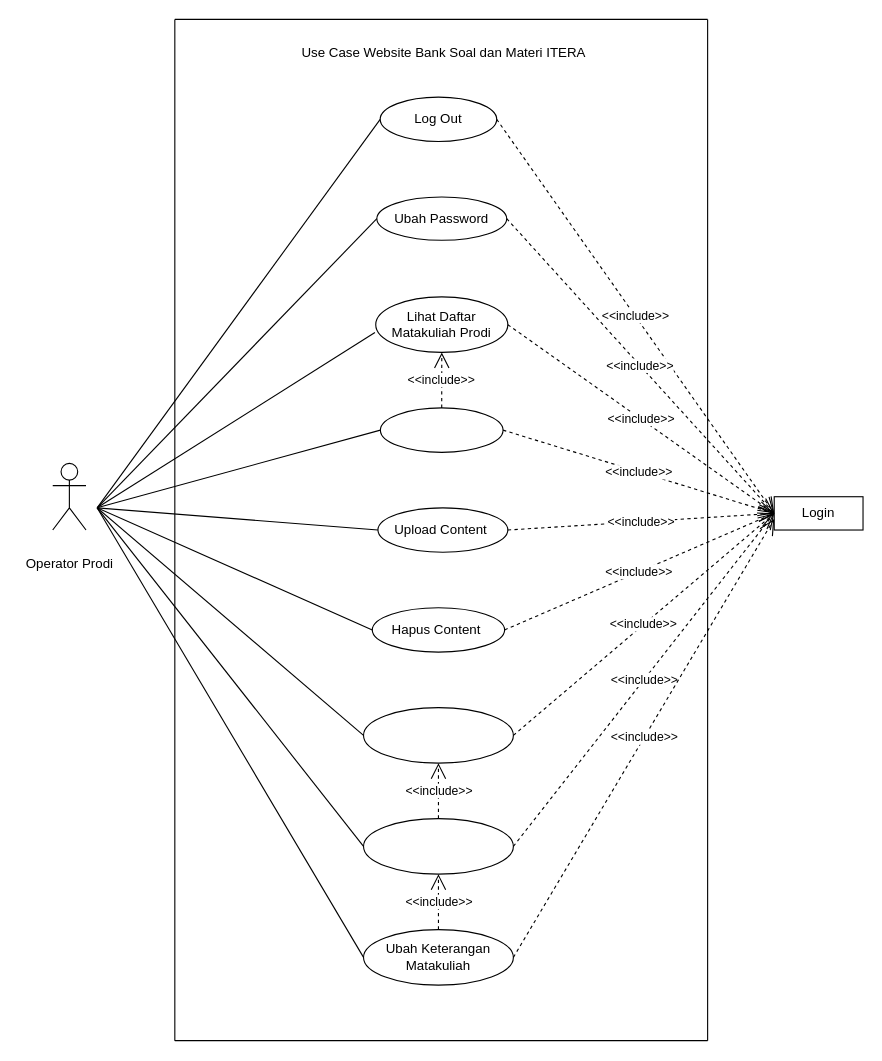
The diagram is 882 pixels wide and 1061 high, and some of its shapes have lost their labels. The shapes that lost their labels are listed below. From the top down, each one's centre as x and y in pixels, then its label:
point 441,429: Lihat Content
point 69,496: Actor
point 437,735: Tambah Keterangan Matakuliah
point 437,846: Lihat Keterangan Matakuliah
